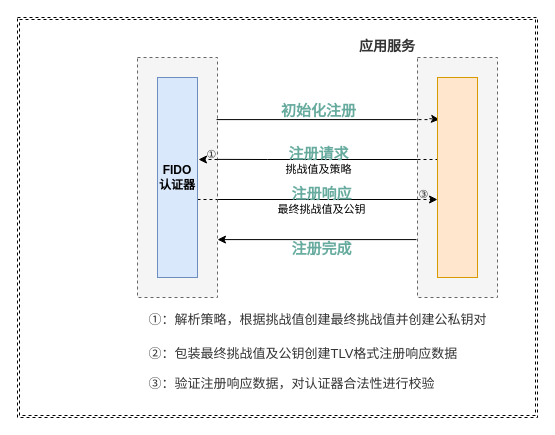
The diagram is 555 pixels wide and 435 high, and some of its shapes have lost their labels. The shapes that lost their labels are listed below. From the top down, each one's box as (x1, y1, x2, y2) in pixels, then its label:
(136, 56, 218, 298): FIDO客户端
(436, 76, 478, 278): FIDO服务
